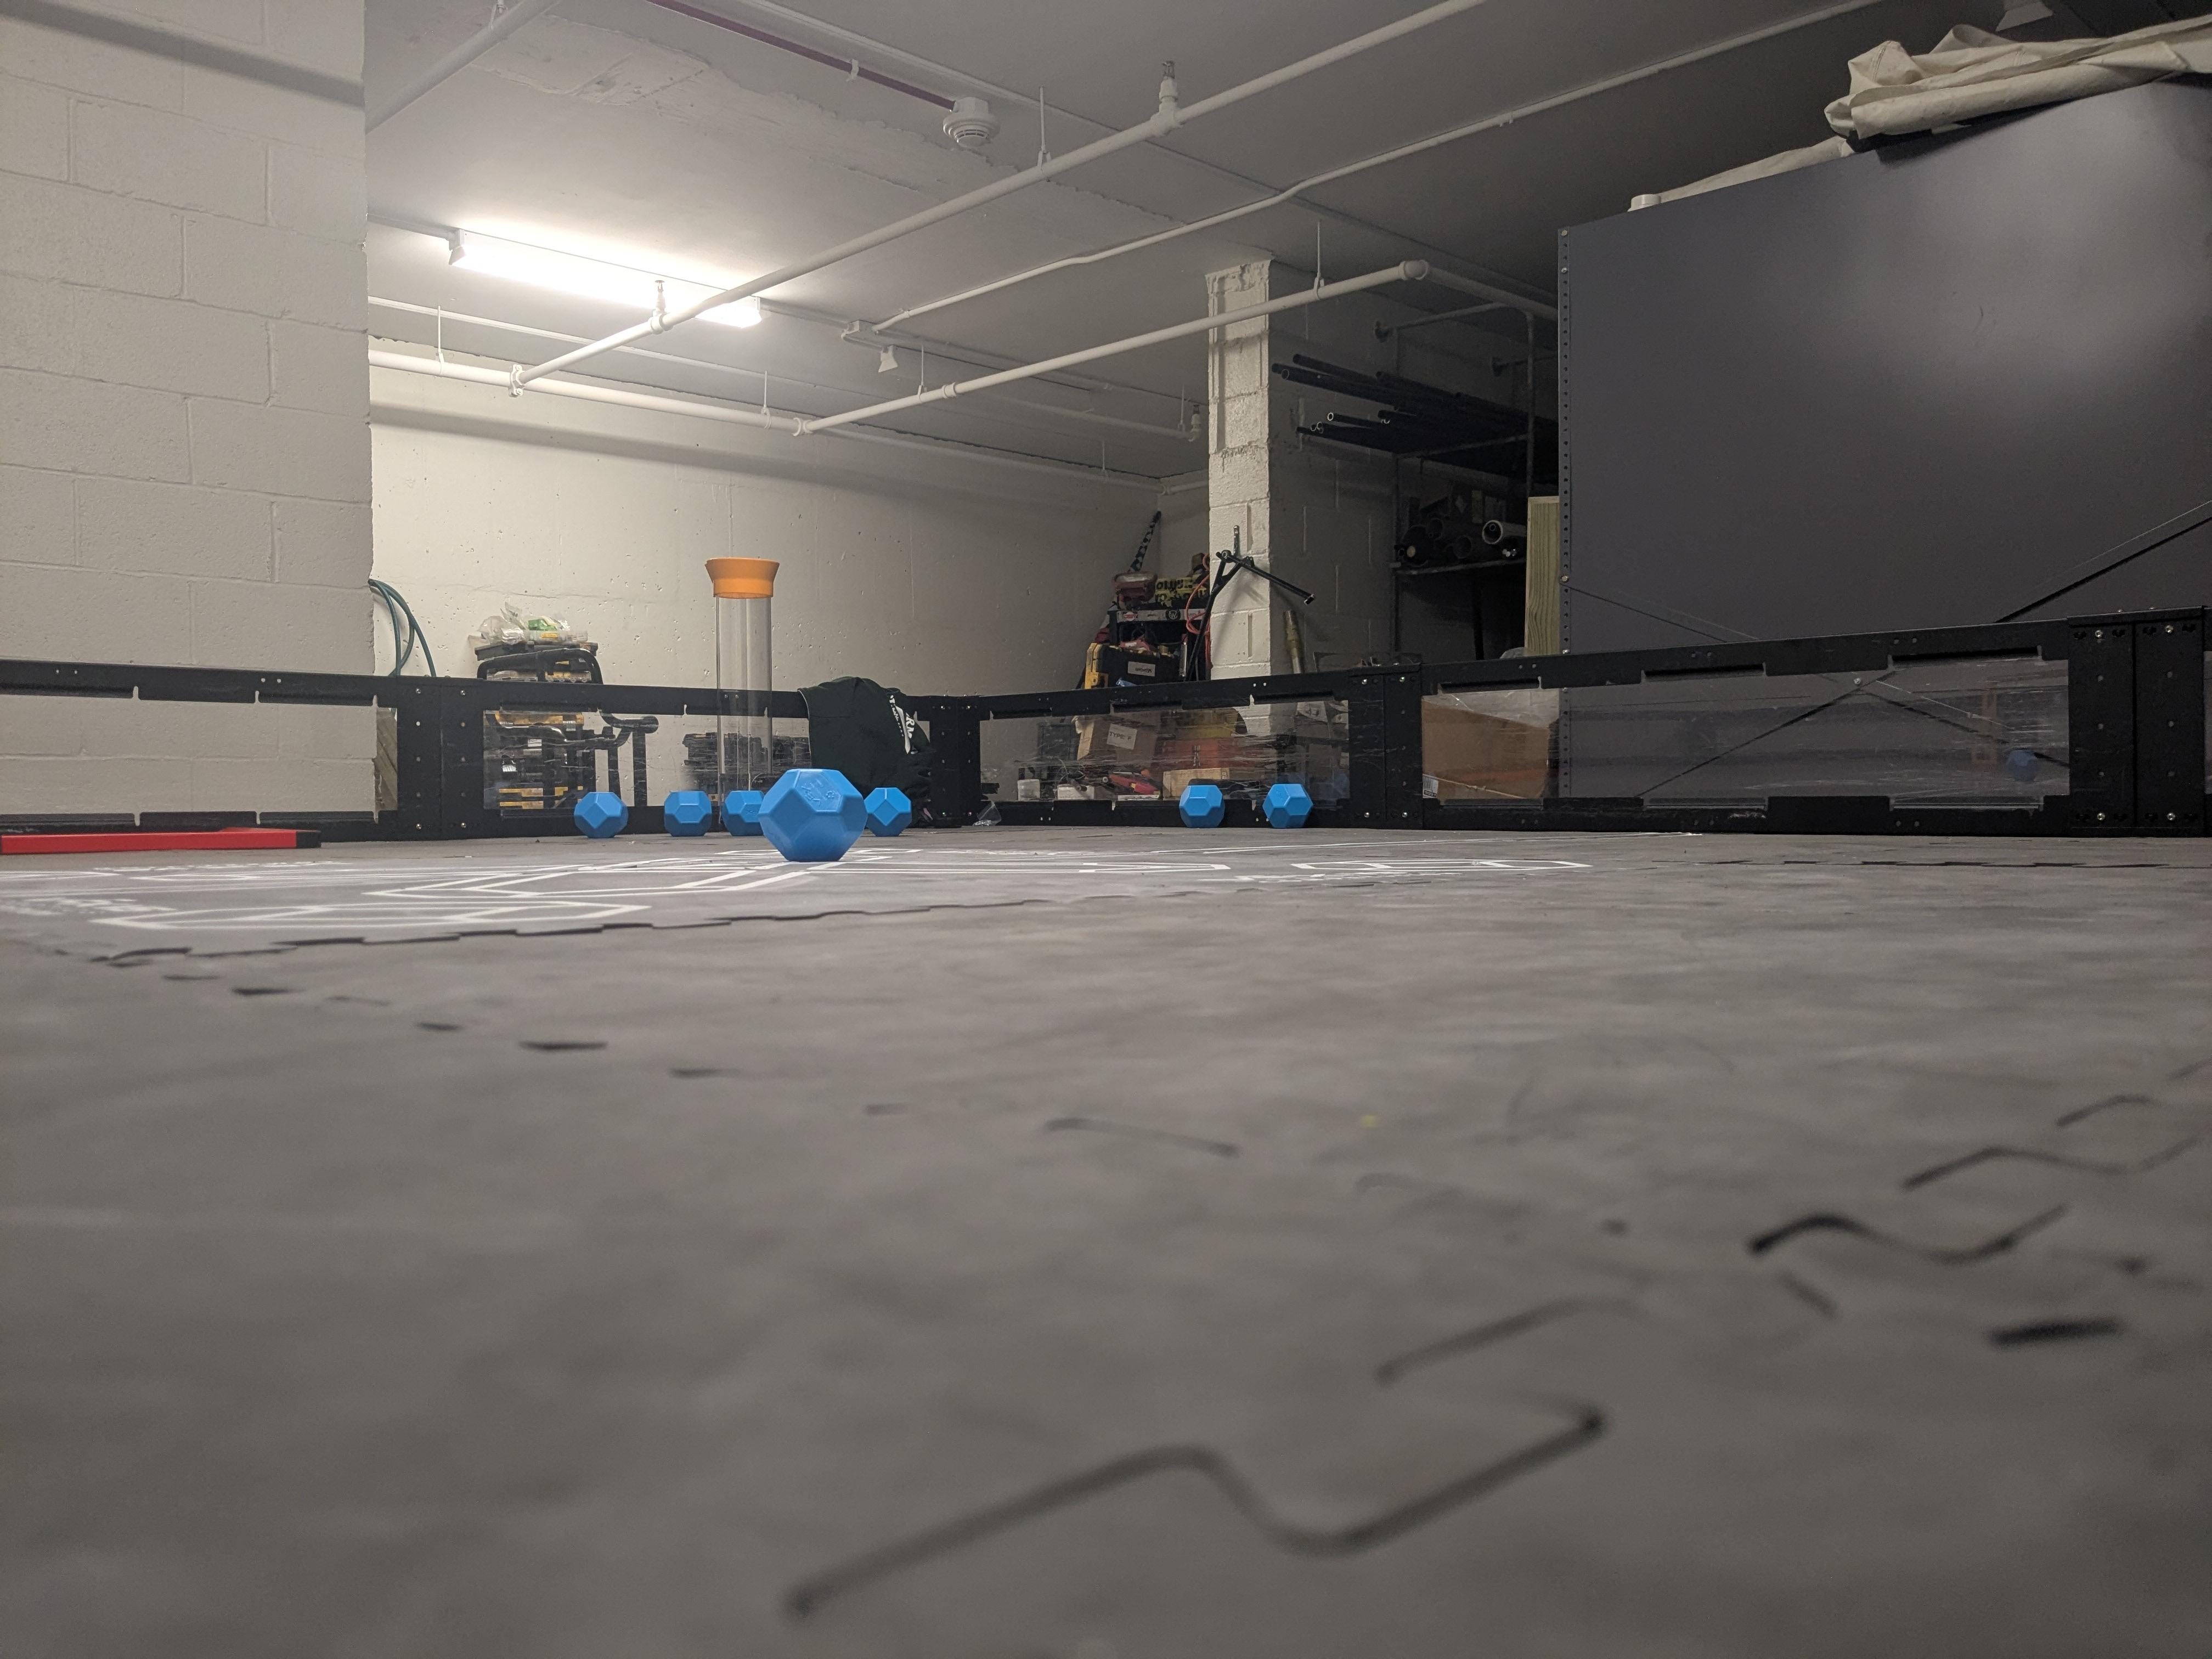Vex-Pieces-BLUE: (685, 767, 916, 861), (573, 791, 627, 838), (1261, 782, 1313, 828), (1179, 782, 1223, 828)
